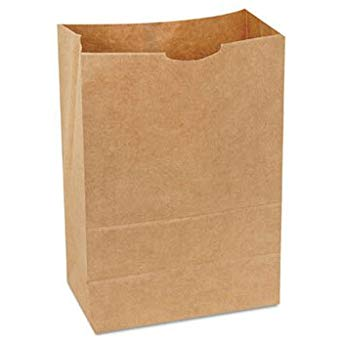Rec_Paper: (38, 5, 320, 328)
